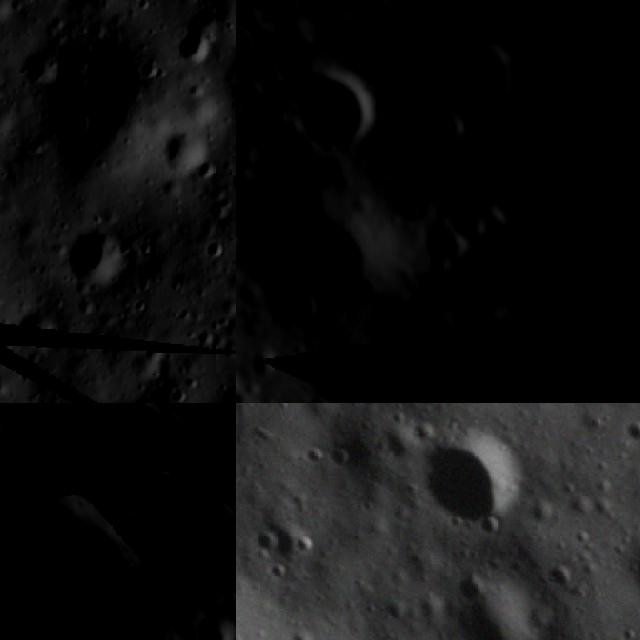crater: (236, 175, 398, 342), (386, 403, 550, 548), (236, 506, 395, 640), (258, 32, 400, 174), (412, 10, 544, 144), (420, 554, 563, 640), (392, 194, 486, 290), (507, 318, 589, 400), (430, 180, 510, 261), (363, 349, 448, 403), (290, 0, 415, 34), (476, 304, 540, 368), (317, 365, 406, 403), (137, 502, 196, 558), (69, 226, 124, 280), (239, 335, 290, 388), (169, 134, 215, 175), (117, 474, 158, 512), (236, 101, 250, 204), (100, 506, 140, 542), (25, 316, 62, 351), (60, 100, 94, 138), (0, 404, 21, 464), (175, 30, 212, 63), (181, 486, 214, 514), (225, 474, 236, 511)
